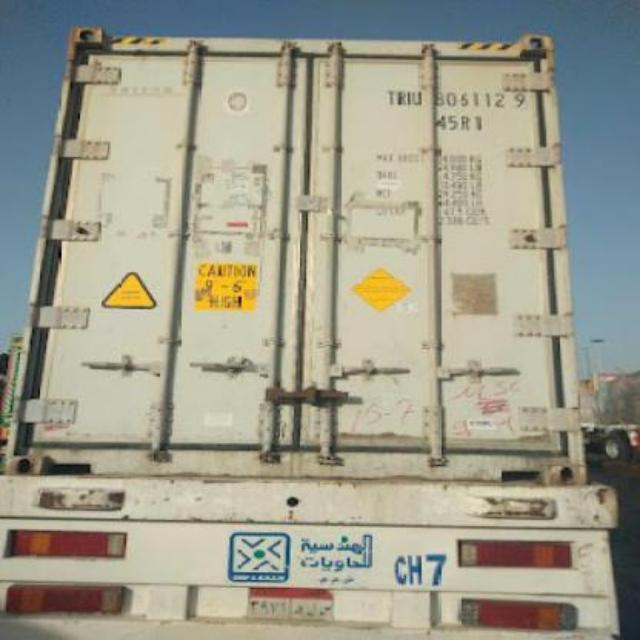0: (444, 86, 458, 110)
1: (481, 84, 494, 112), (470, 85, 480, 106)
2: (492, 89, 506, 113)
6: (456, 88, 469, 110)
8: (436, 88, 444, 109)
9: (512, 88, 526, 109)
I: (404, 84, 412, 106)
R: (394, 83, 406, 107)
T: (386, 84, 396, 108)
U: (408, 87, 422, 105)
